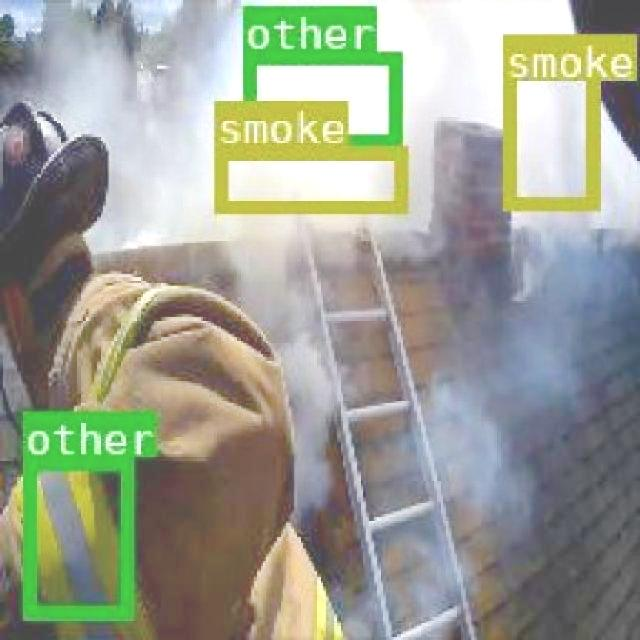smoke: (501, 32, 596, 206), (212, 144, 406, 210)
